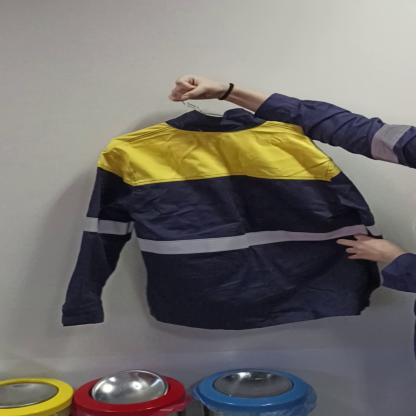C_eletrica: (63, 111, 387, 334)
